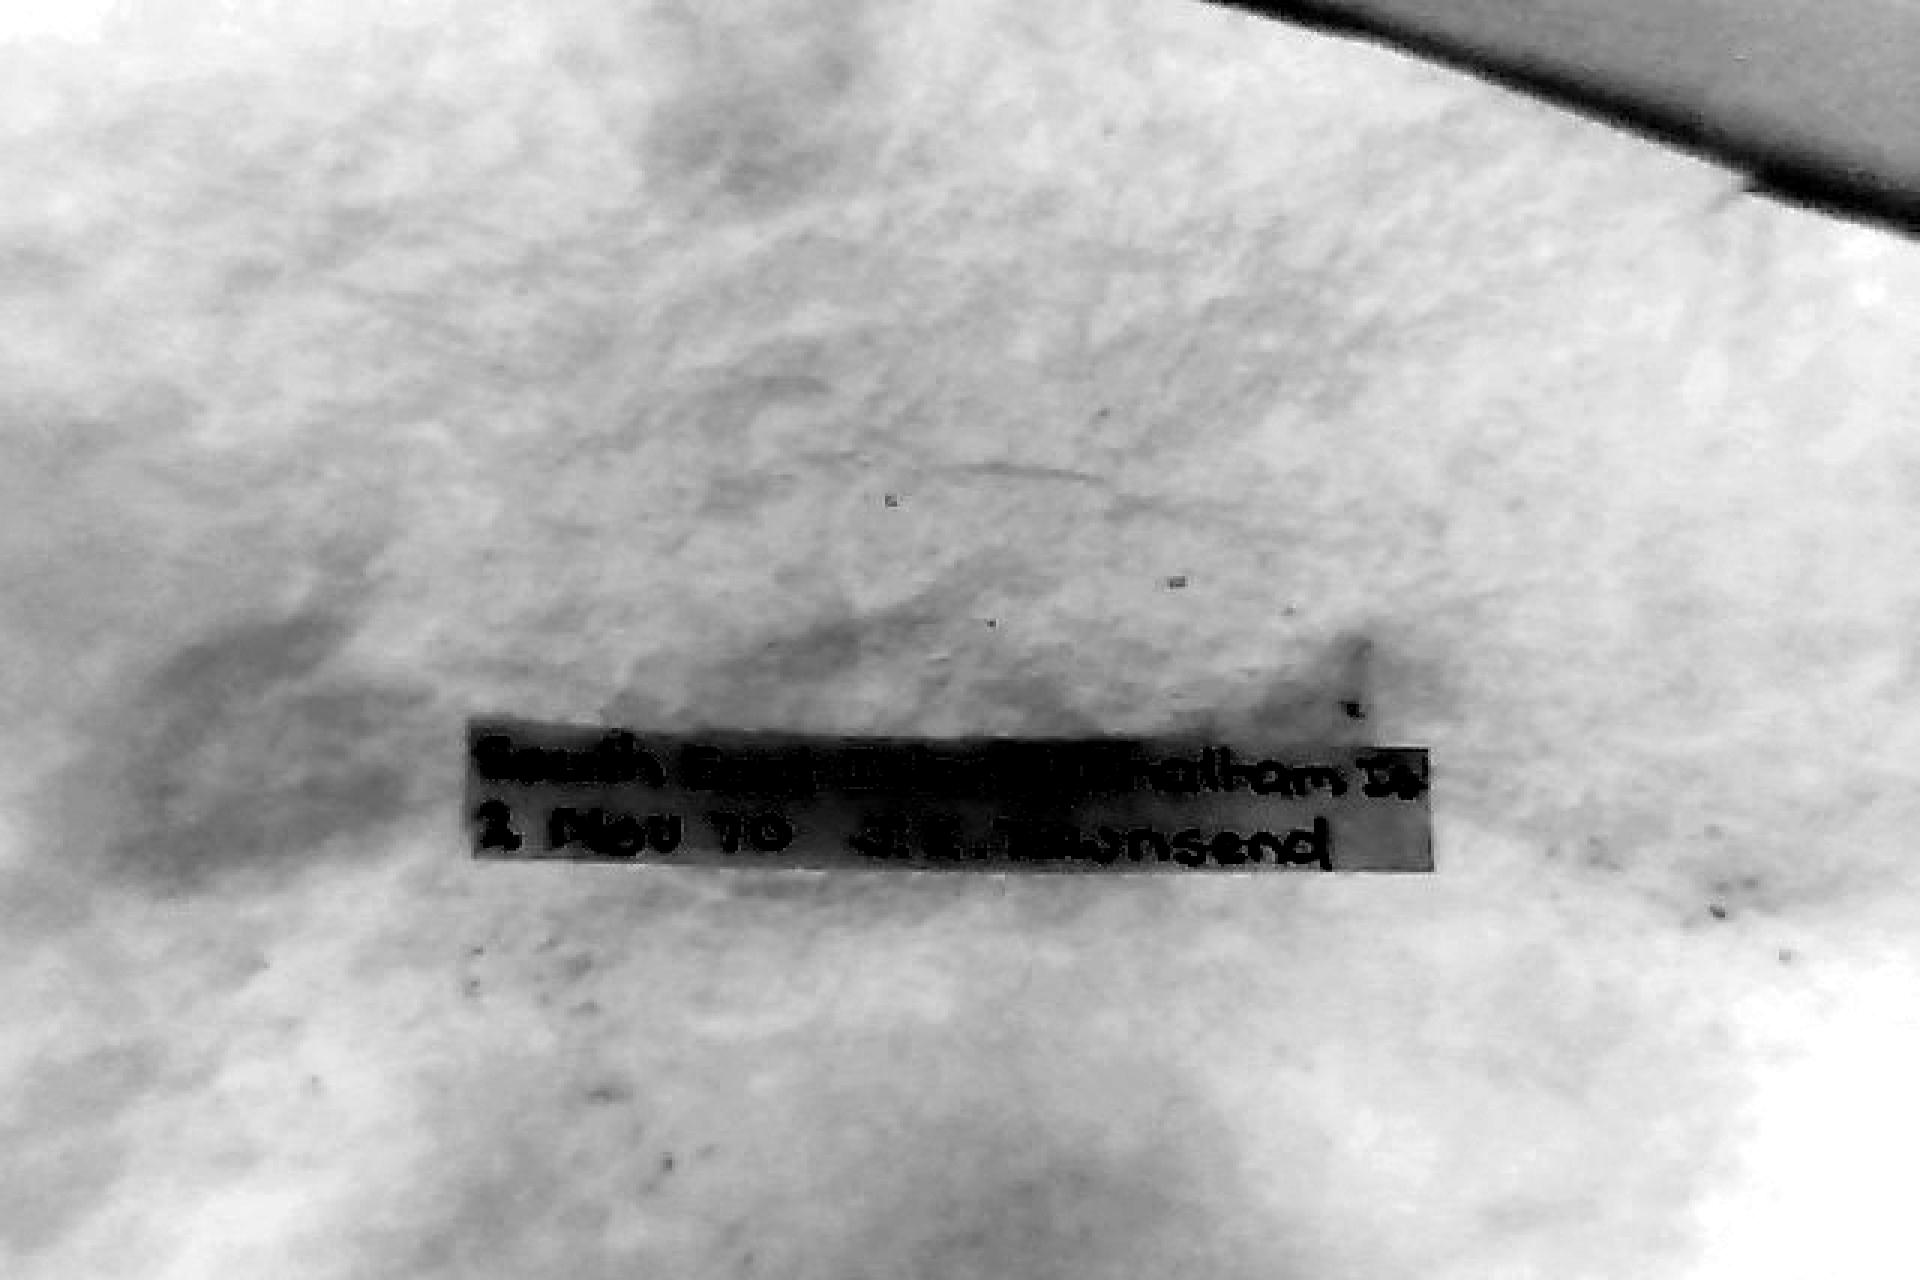hand_label: (469, 729, 1429, 871)
